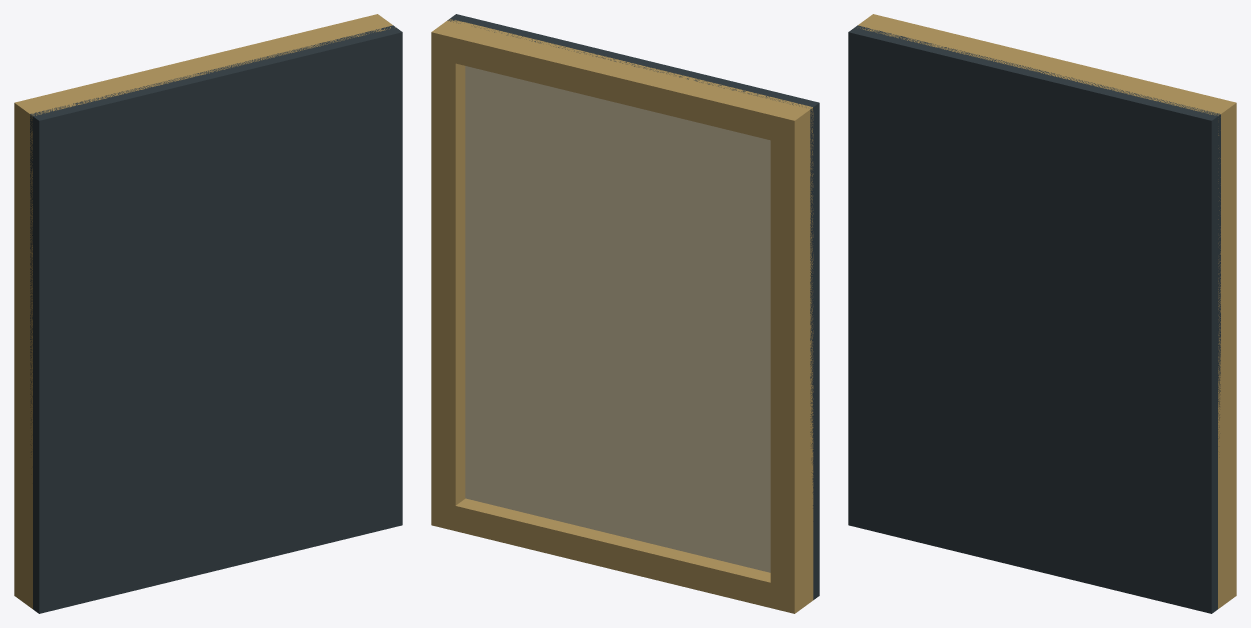
The model's file is VIC_E05_FRAME_PORTRAIT_Roblox.fbx.
The picture shows the model from 3 angles, left to right: view 1: azimuth 30°, elevation 25°; view 2: azimuth 150°, elevation 25°; view 3: azimuth 330°, elevation 25°; orthographic projection.
Visible parts, largest first — view 1: VIC_E05_FRAME_PORTRAIT__Charcoal, VIC_E05_FRAME_PORTRAIT__Brass; view 2: VIC_E05_FRAME_PORTRAIT__Canvas__Paper, VIC_E05_FRAME_PORTRAIT__Brass, VIC_E05_FRAME_PORTRAIT__Charcoal; view 3: VIC_E05_FRAME_PORTRAIT__Charcoal, VIC_E05_FRAME_PORTRAIT__Brass.
Part boxes in pixels (box(x1,y1,x2,y2)): VIC_E05_FRAME_PORTRAIT__Charcoal: box(30, 25, 402, 613); VIC_E05_FRAME_PORTRAIT__Brass: box(14, 14, 395, 608); VIC_E05_FRAME_PORTRAIT__Canvas__Paper: box(465, 66, 770, 572); VIC_E05_FRAME_PORTRAIT__Brass: box(431, 19, 813, 613); VIC_E05_FRAME_PORTRAIT__Charcoal: box(447, 14, 819, 599); VIC_E05_FRAME_PORTRAIT__Charcoal: box(848, 25, 1220, 613); VIC_E05_FRAME_PORTRAIT__Brass: box(858, 14, 1236, 608).
Bounding box in the file's own units: 2.7 × 3.5 × 0.32.
